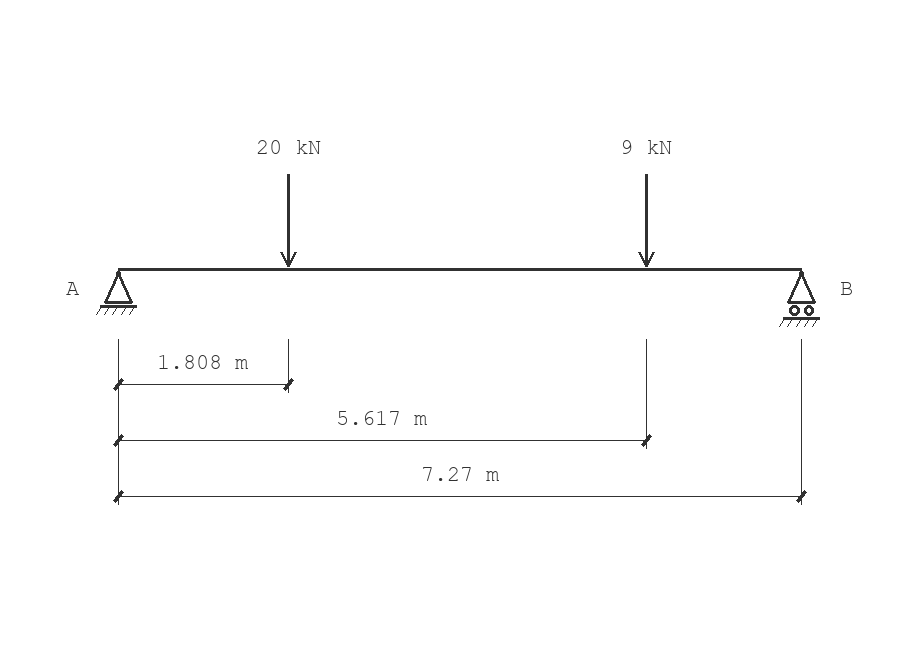pin_support: (96, 271, 137, 315)
point_load: (280, 174, 297, 267), (638, 174, 655, 267)
roller_support: (779, 271, 820, 327)
